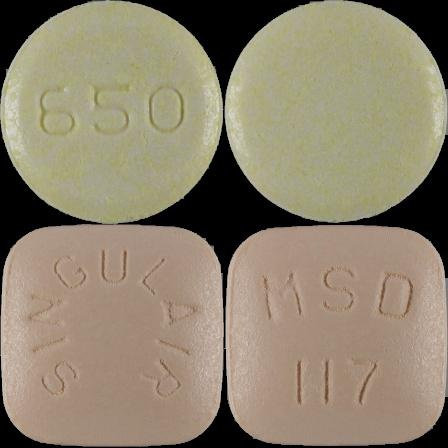0006-3916: (0, 0, 224, 224)
